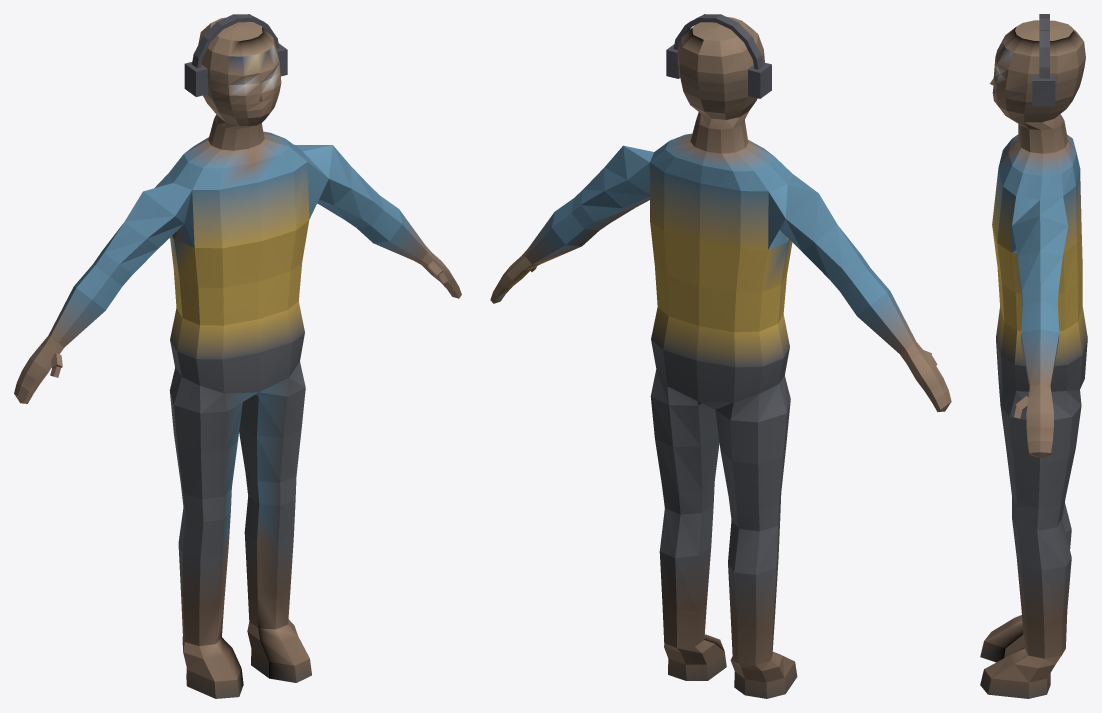
The model's file is char__pessoa__multidao_06.glb.
3 views of the same model, side by side, from view 1: azimuth 30°, elevation 25°; view 2: azimuth 150°, elevation 25°; view 3: azimuth 270°, elevation 25° (orthographic). The views are drawn at different scales.
Visible parts, largest first — view 1: char__pessoa__multidao_06; view 2: char__pessoa__multidao_06; view 3: char__pessoa__multidao_06.
Boxes of the visible parts, <box> form: char__pessoa__multidao_06: <box>14,14,461,698</box>; char__pessoa__multidao_06: <box>490,14,951,698</box>; char__pessoa__multidao_06: <box>980,14,1087,698</box>.
Size of the model in its own units: 1.28 by 1.82 by 0.2703.
